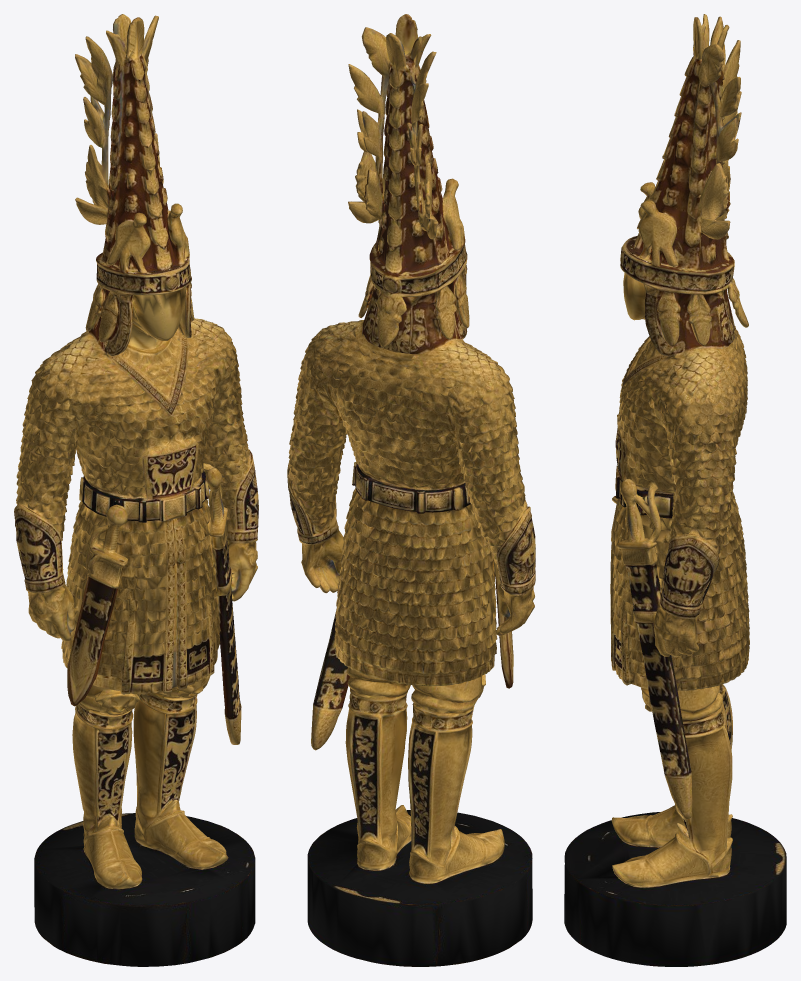
Rendered from goldenman.glb.
The picture shows the model from 3 angles, left to right: view 1: azimuth 30°, elevation 25°; view 2: azimuth 150°, elevation 25°; view 3: azimuth 270°, elevation 25°; orthographic projection.
Bounding box in the file's own units: 0.5195 × 1.9 × 0.4244.
1 material, 1 textured.
